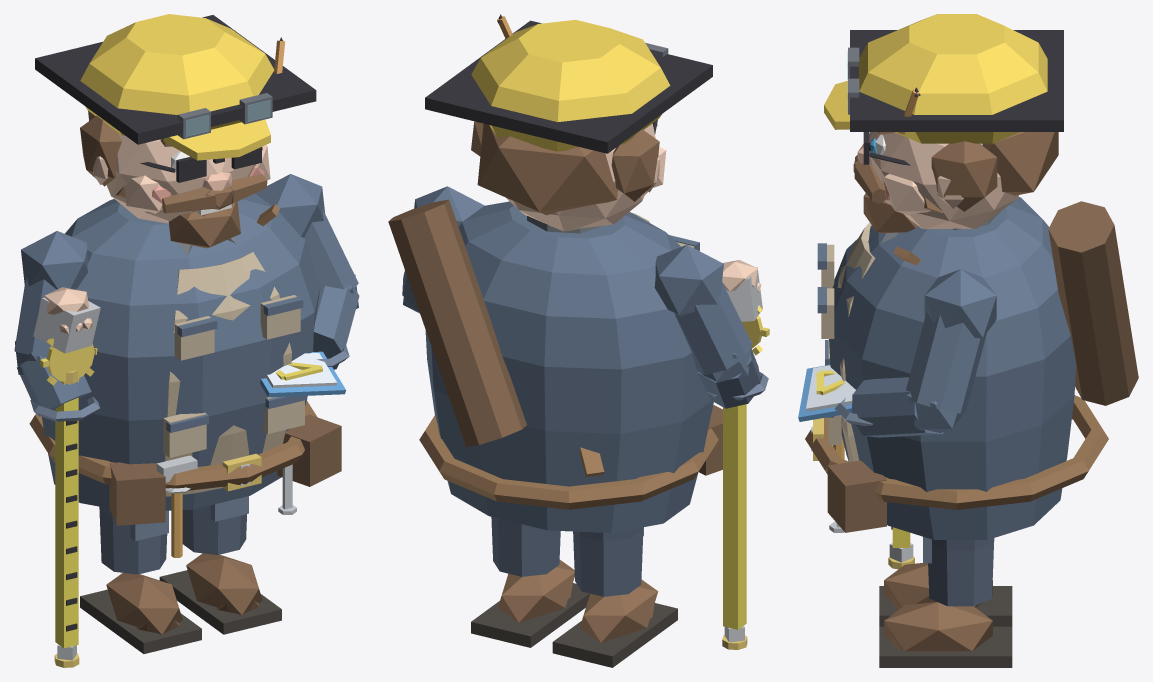
Rendered from builder.glb.
3 views of the same model, side by side, from view 1: azimuth 30°, elevation 25°; view 2: azimuth 150°, elevation 25°; view 3: azimuth 270°, elevation 25° (orthographic). The views are drawn at different scales.
Parts seen in each view (by area): view 1: Builder; view 2: Builder; view 3: Builder.
Part boxes in pixels (bbox=[...]): Builder: bbox=[14, 14, 359, 667]; Builder: bbox=[388, 14, 769, 667]; Builder: bbox=[798, 14, 1138, 667].
Size of the model in its own units: 1.1 by 1.79 by 0.9227.
